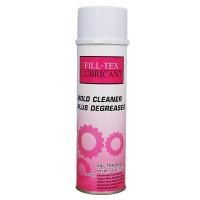Aerosol_cans: (74, 3, 128, 196)
